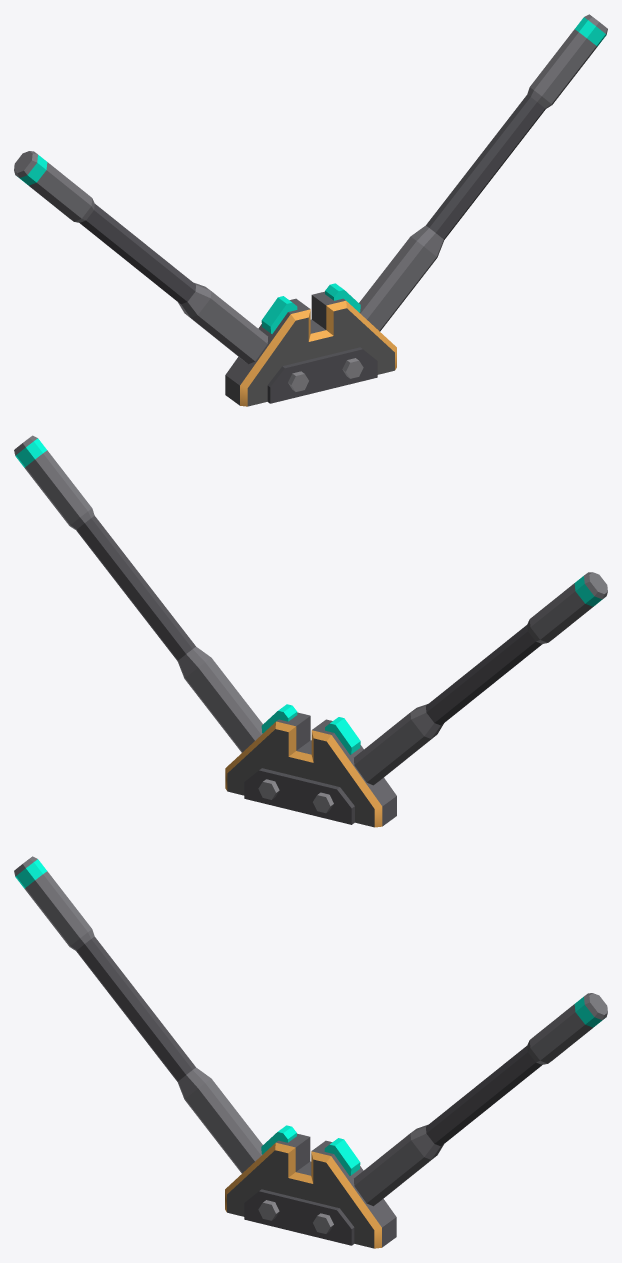
Rendered from worlds_SM_Prop_Antenna_08.gltf.
The picture shows the model from 3 angles, top to bottom: view 1: azimuth 30°, elevation 25°; view 2: azimuth 150°, elevation 25°; view 3: azimuth 330°, elevation 25°; orthographic projection.
Parts seen in each view (by area): view 1: SM_Prop_Antenna_08; view 2: SM_Prop_Antenna_08; view 3: SM_Prop_Antenna_08.
Boxes of the visible parts, x1,y1,x2,y2 form: SM_Prop_Antenna_08: [14, 14, 607, 406]; SM_Prop_Antenna_08: [14, 435, 607, 827]; SM_Prop_Antenna_08: [14, 856, 607, 1248].
Bounding box in the file's own units: 6 × 2.89 × 0.5827.
Materials: 1 (1 with a texture image).
